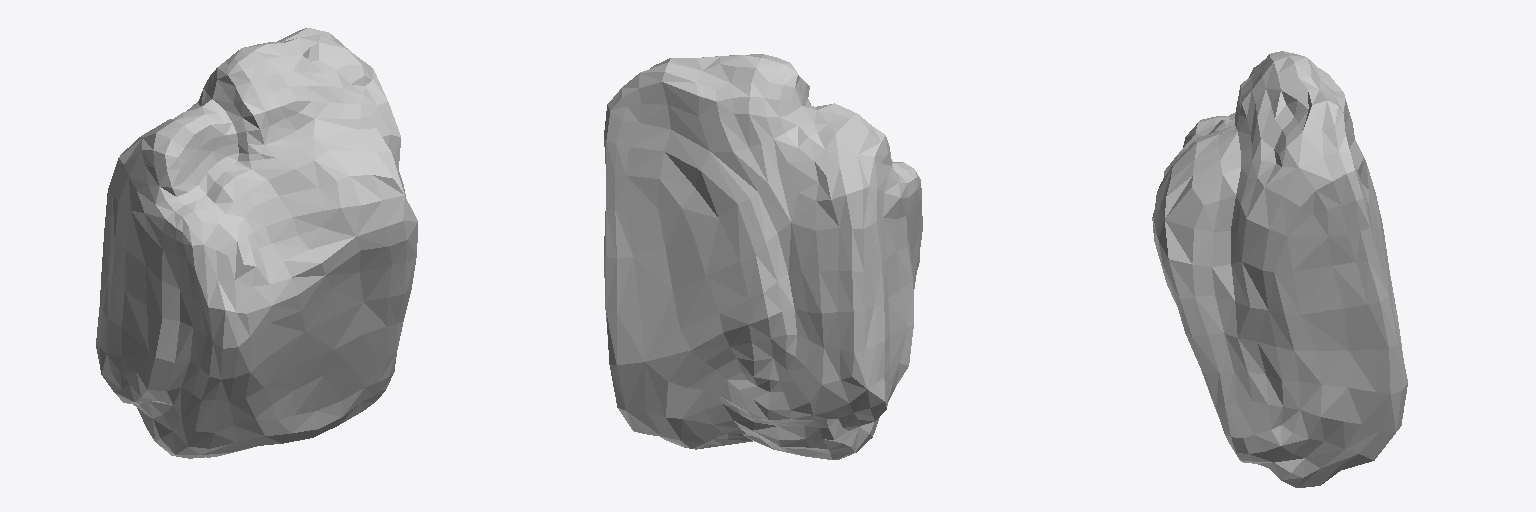
File: Rock_1.obj
3 views of the same model, side by side, from view 1: azimuth 30°, elevation 25°; view 2: azimuth 150°, elevation 25°; view 3: azimuth 270°, elevation 25° (orthographic).
Visible parts, largest first — view 1: Rock_1; view 2: Rock_1; view 3: Rock_1.
Part boxes in pixels (left/top/right/bottom): Rock_1: left=96, top=28, right=417, bottom=458; Rock_1: left=604, top=54, right=922, bottom=459; Rock_1: left=1152, top=51, right=1407, bottom=487.
Size of the model in its own units: 0.5776 by 0.8201 by 0.4721.